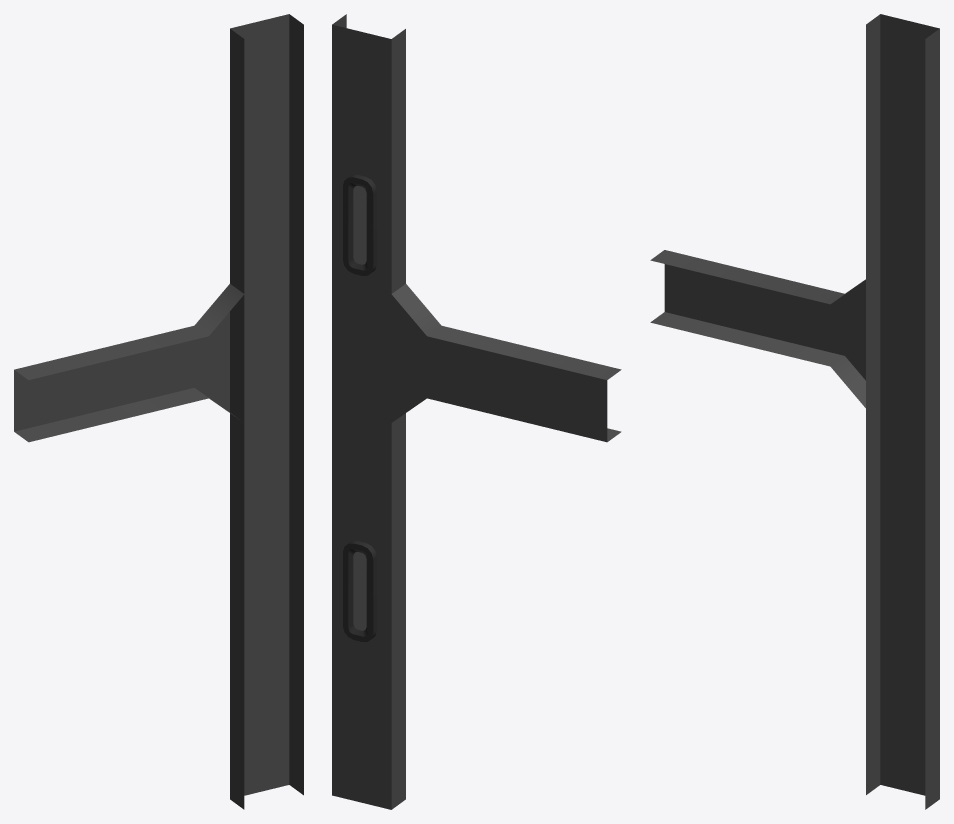
Rendered from SM_cable_right_03.fbx.
3 renders of one model, left to right at view 1: azimuth 30°, elevation 25°; view 2: azimuth 150°, elevation 25°; view 3: azimuth 330°, elevation 25°, orthographic.
Parts seen in each view (by area): view 1: SM_cable_right_03; view 2: SM_cable_right_03; view 3: SM_cable_right_03.
Part boxes in pixels (box(x1,y1,x2,y2)): SM_cable_right_03: box(14, 14, 303, 809); SM_cable_right_03: box(332, 14, 621, 809); SM_cable_right_03: box(650, 14, 939, 809).
Bounding box in the file's own units: 112 × 300 × 12.76.
2 materials, 2 textured.
